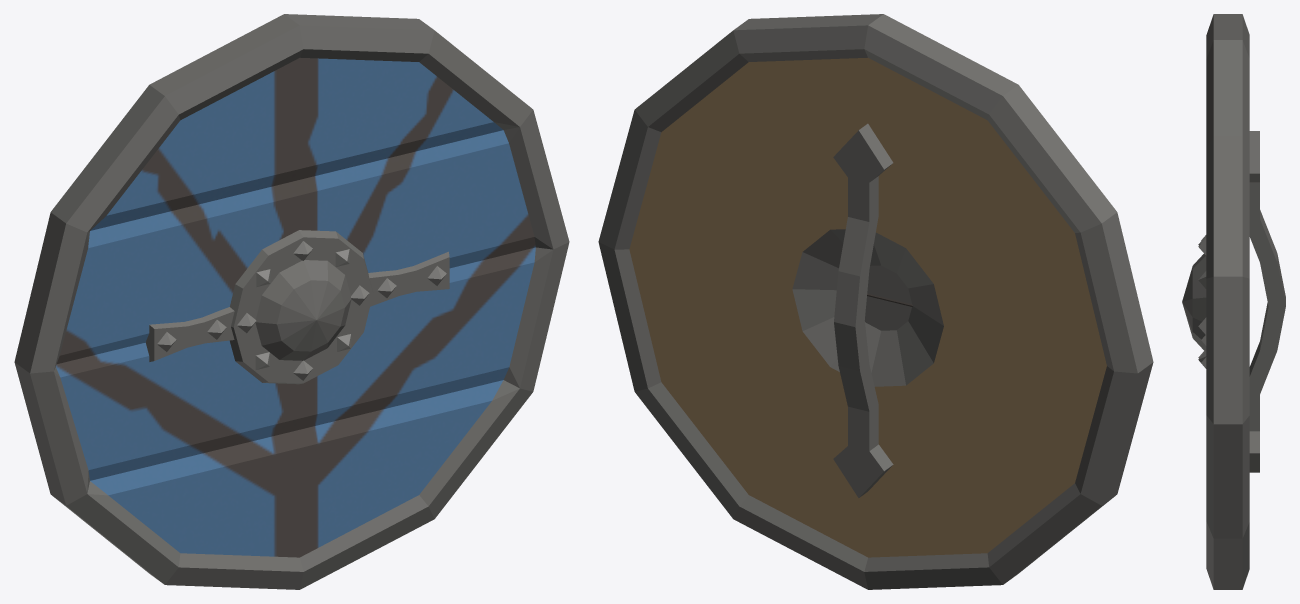
File: SM_pwe_slavic_shield_03d.fbx
The picture shows the model from 3 angles, left to right: view 1: azimuth 30°, elevation 25°; view 2: azimuth 150°, elevation 25°; view 3: azimuth 270°, elevation 25°; orthographic projection. The views are drawn at different scales.
Visible parts, largest first — view 1: SM_pwe_slavic_shield_03d; view 2: SM_pwe_slavic_shield_03d; view 3: SM_pwe_slavic_shield_03d.
Part boxes in pixels (x1,y1,x2,y2): SM_pwe_slavic_shield_03d: [14, 14, 569, 589]; SM_pwe_slavic_shield_03d: [598, 14, 1153, 589]; SM_pwe_slavic_shield_03d: [1182, 14, 1285, 589].
Bounding box in the file's own units: 70.52 × 70.52 × 12.67.
